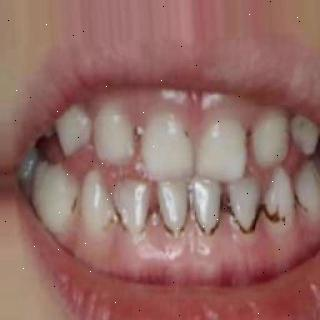LL1BC_decay: (294, 161, 320, 211)
LLCI_decay: (192, 178, 221, 236)
LLC_decay: (263, 168, 296, 222)
LLLI_decay: (228, 179, 259, 233)
LR1BC_decay: (35, 161, 77, 232)
LRCI_decay: (157, 179, 188, 235)
LRC_healthy: (79, 171, 113, 229)
LRLI_decay: (114, 179, 151, 232)
ULCI_healthy: (196, 117, 247, 181)
ULC_healthy: (291, 114, 317, 156)
ULLI_healthy: (252, 111, 288, 168)
URCI_healthy: (140, 112, 194, 180)
URC_healthy: (54, 105, 91, 157)
URLI_healthy: (93, 102, 136, 167)
